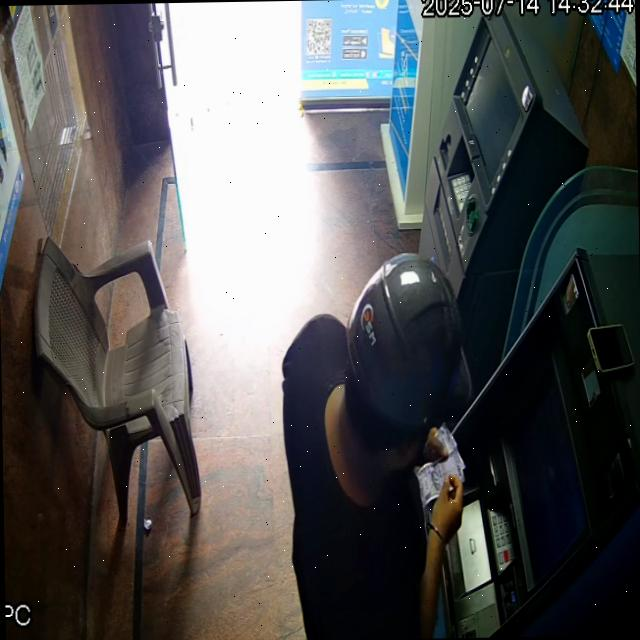helmet: (341, 252, 472, 452)
